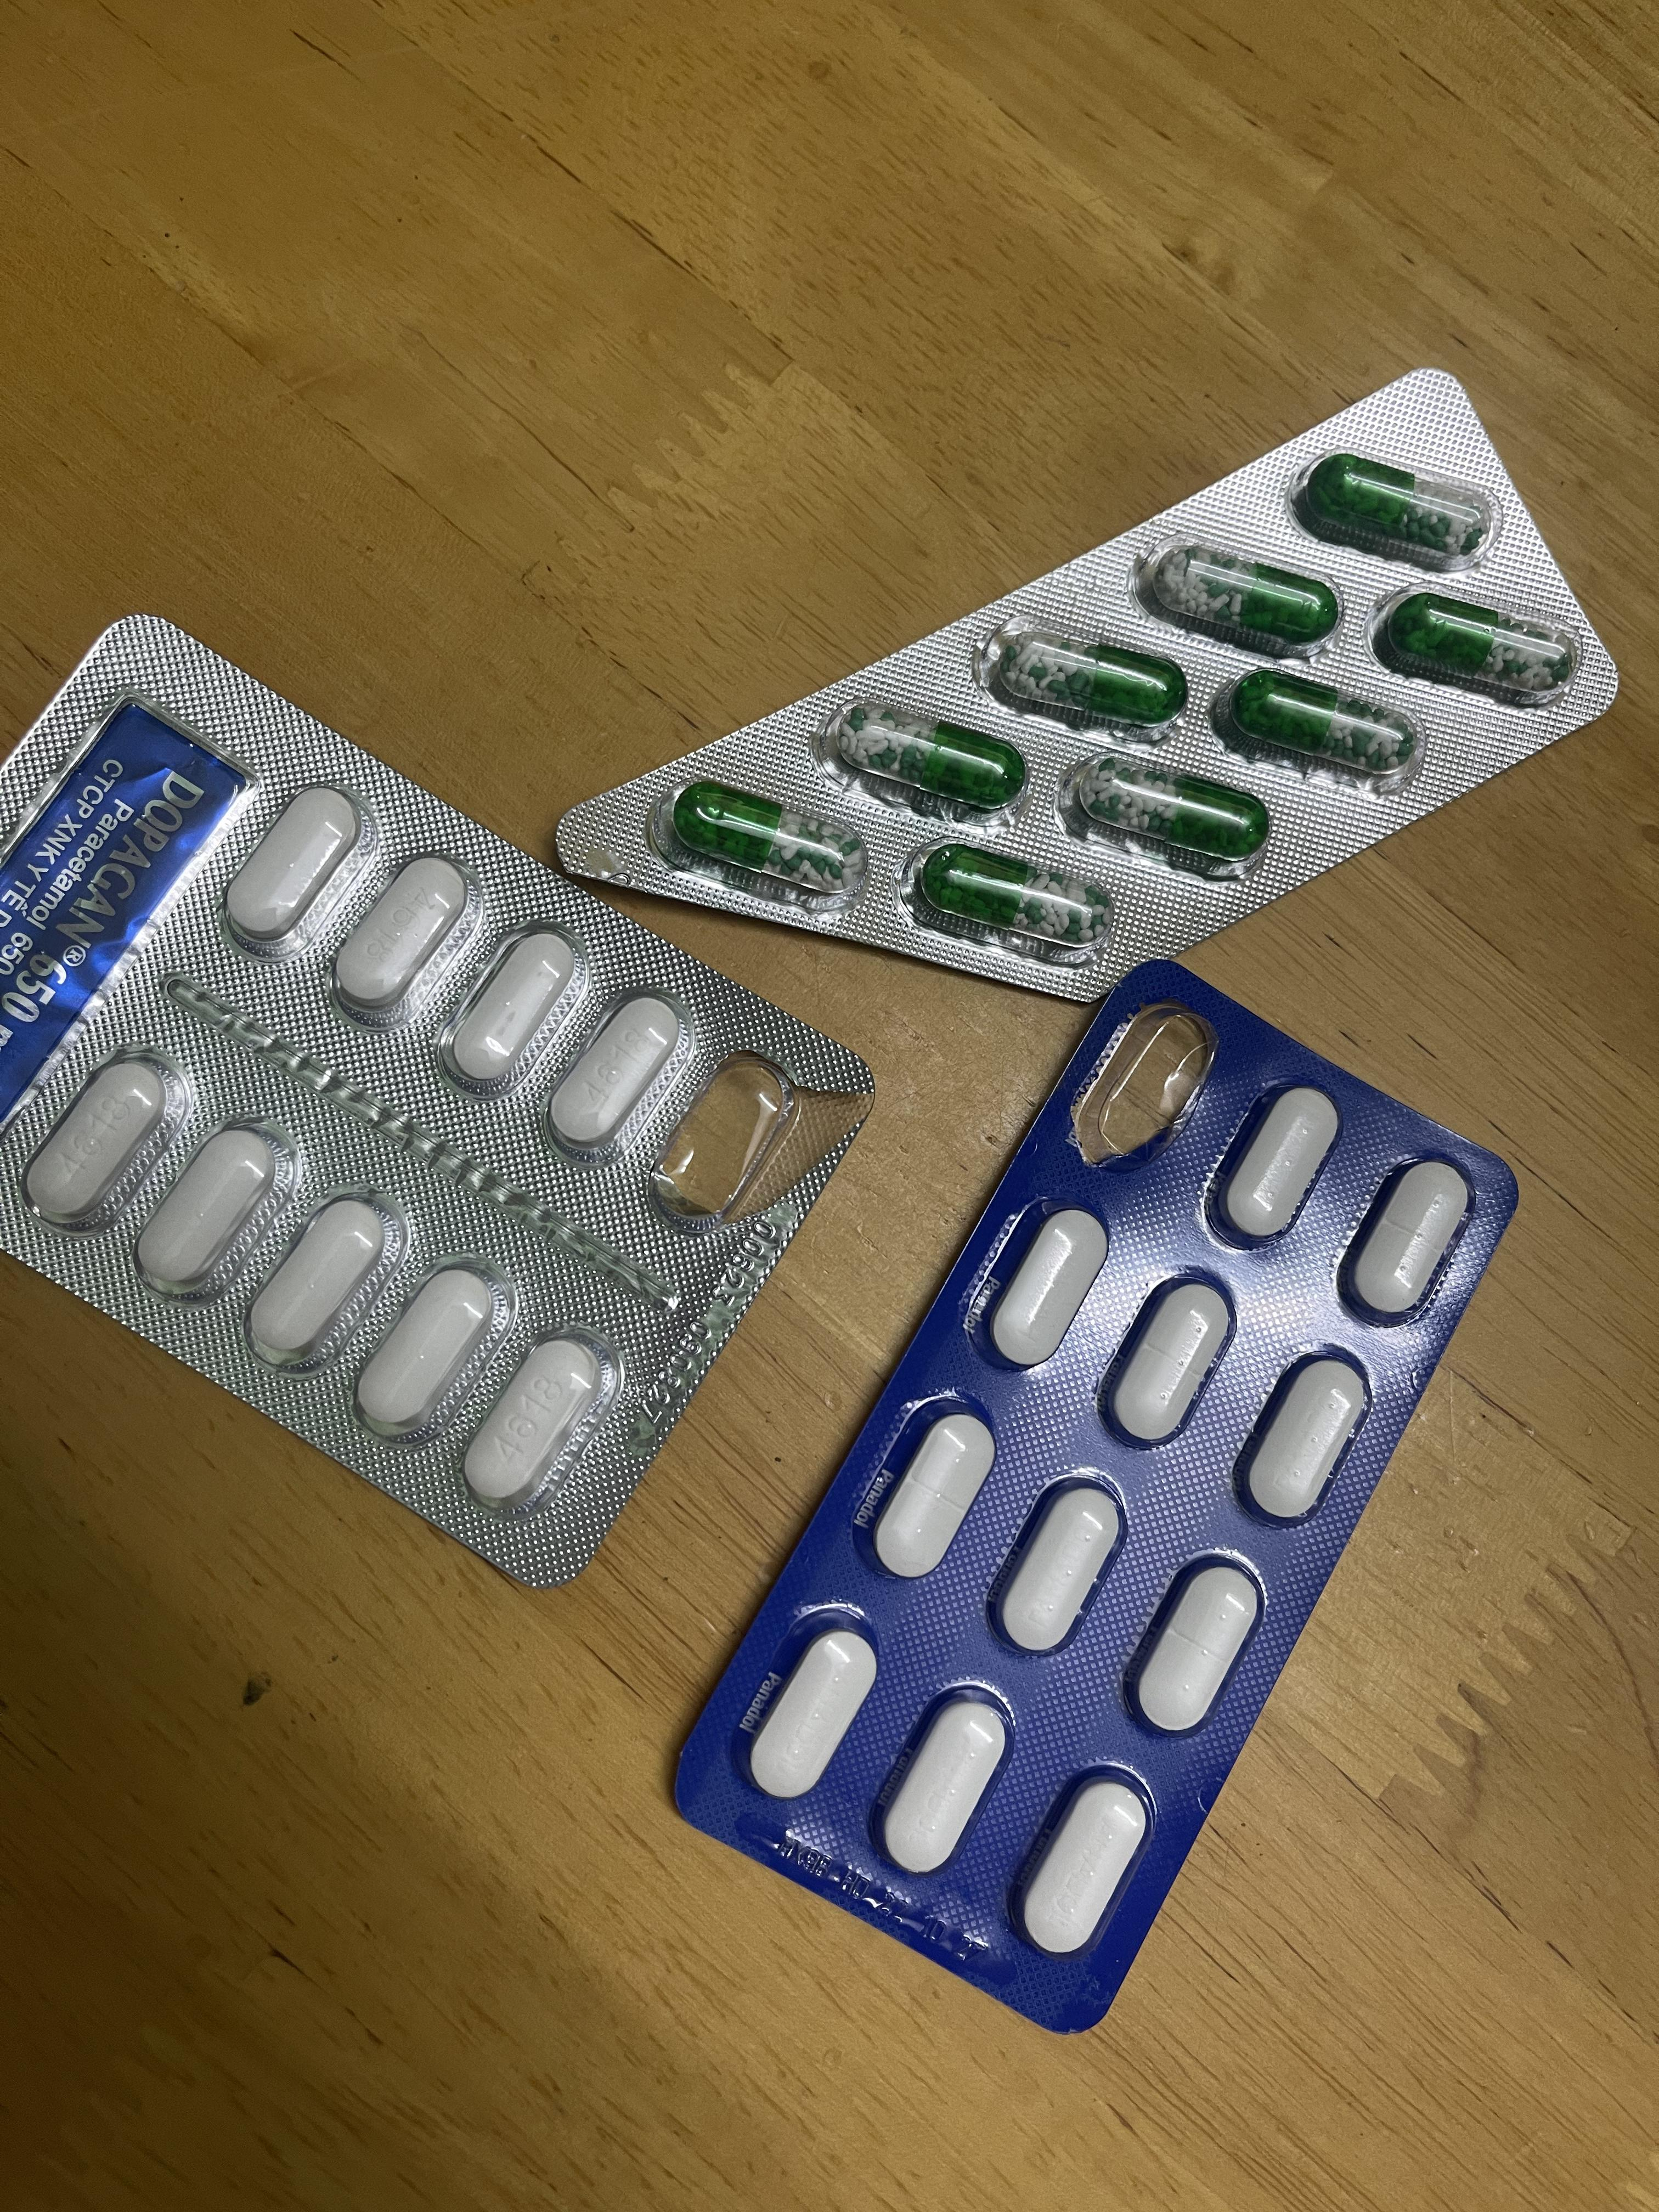Paracetamol_350mg: (1129, 1548, 1270, 1737), (1016, 1771, 1152, 1961), (877, 1695, 1011, 1881), (1239, 1350, 1377, 1529), (990, 1475, 1127, 1655), (749, 1625, 878, 1806), (1340, 1158, 1473, 1324), (873, 1414, 999, 1585), (1213, 1087, 1344, 1245), (1112, 1275, 1234, 1442), (988, 1207, 1110, 1371)
Paracetamol_500mg: (349, 1254, 512, 1442), (136, 1118, 300, 1303), (242, 1193, 387, 1378), (462, 1334, 608, 1507), (545, 989, 692, 1160), (328, 855, 477, 1019), (437, 928, 582, 1092), (24, 1055, 167, 1219), (223, 786, 359, 948)
Paracetamol_650mg: (1230, 674, 1415, 780), (676, 782, 854, 892), (1305, 456, 1490, 561), (840, 707, 1025, 808), (1385, 596, 1570, 695), (1152, 543, 1335, 643), (995, 632, 1178, 728), (922, 850, 1094, 948), (1089, 768, 1263, 864)
